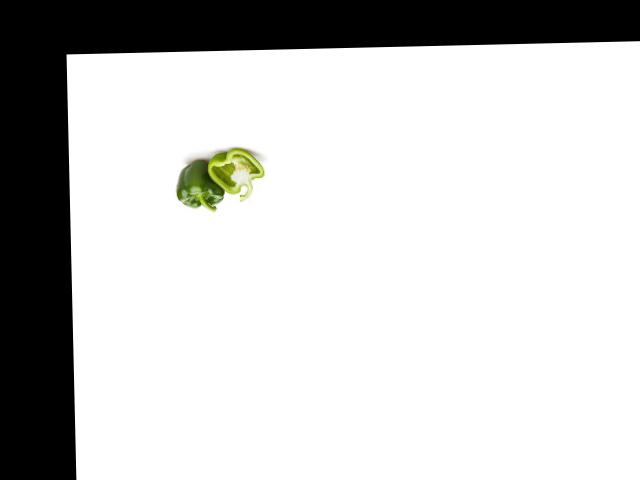bell_pepper: (205, 149, 267, 204)
